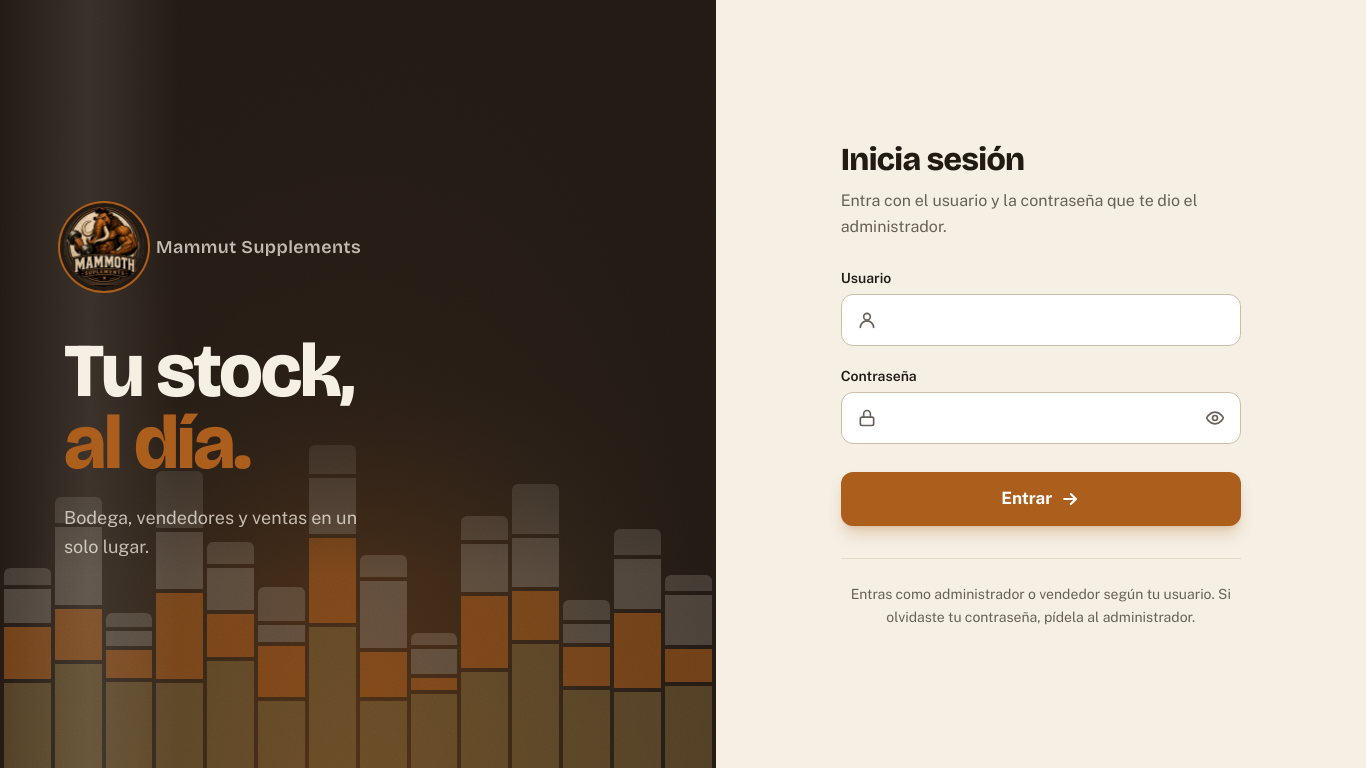
LoginPageComponent › mientras revisa el login el botón muestra el indicador giratorio y «Entrando…»
Type "admin@mammut.local" into the field with id "email" at (1041,320), box 841,294 -> 1241,346
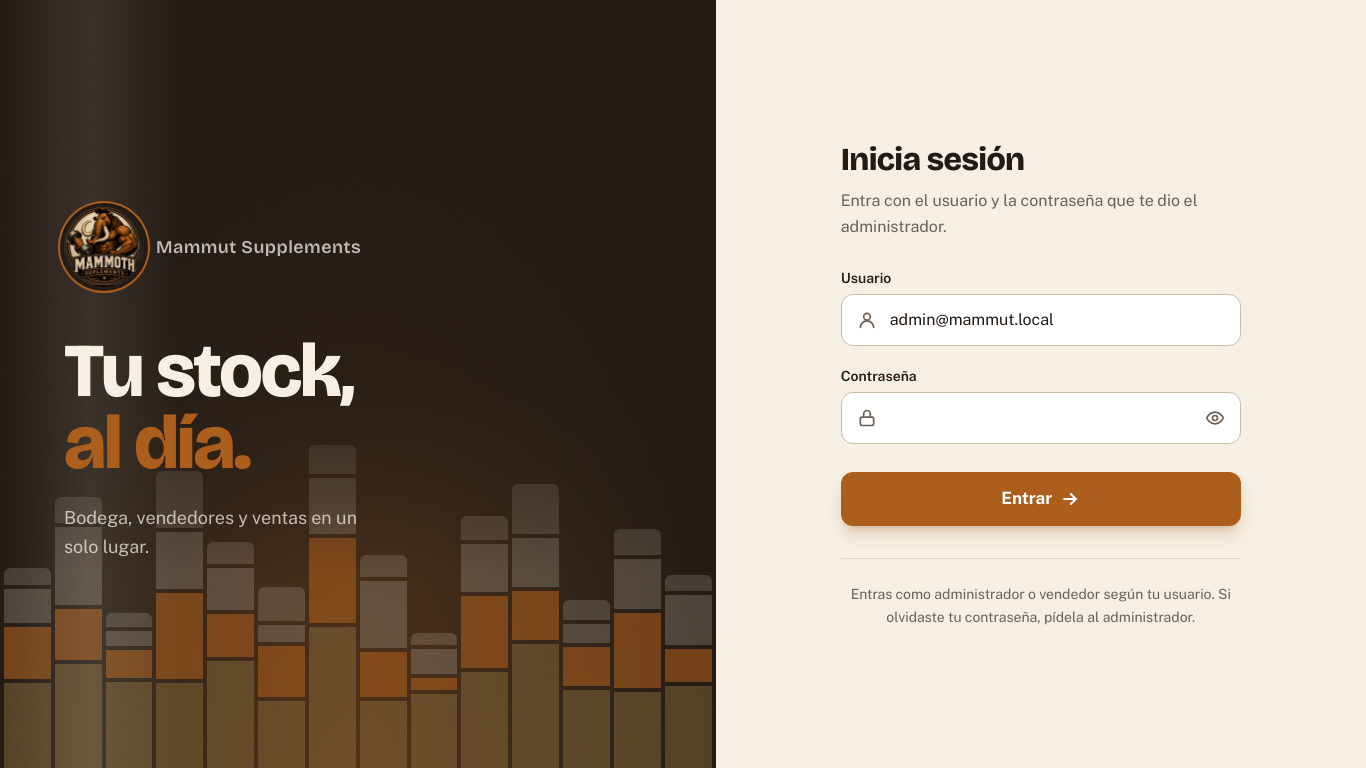
Type "secreta" into the password field labelled "Contraseña" at (1041,418), box 841,392 -> 1241,444
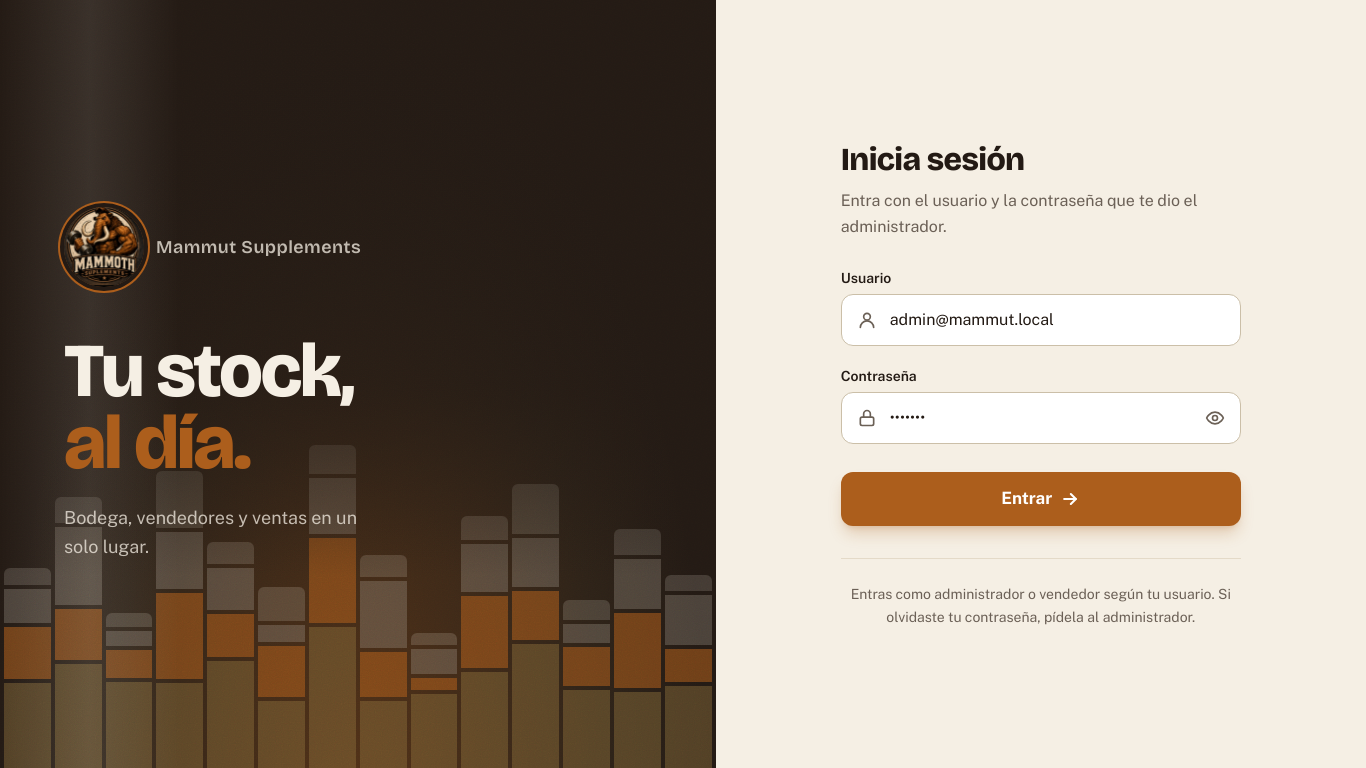
Submit the form, box 841,268 -> 1241,526
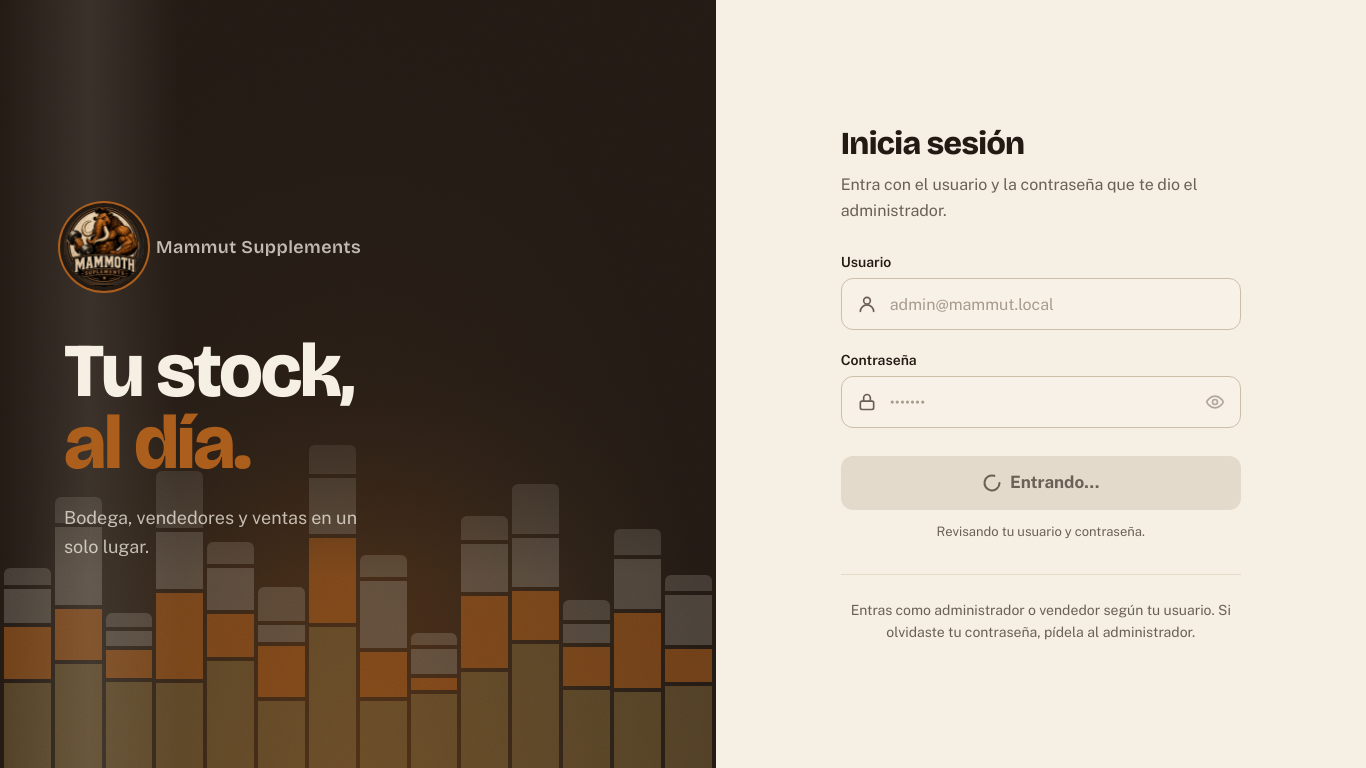
Result: the submit button is disabled at 841,456 -> 1241,510
Result: the icon with class "spinner" is shown at 982,473 -> 1002,493
Result: the submit button reads "Entrando…" at 841,456 -> 1241,510
